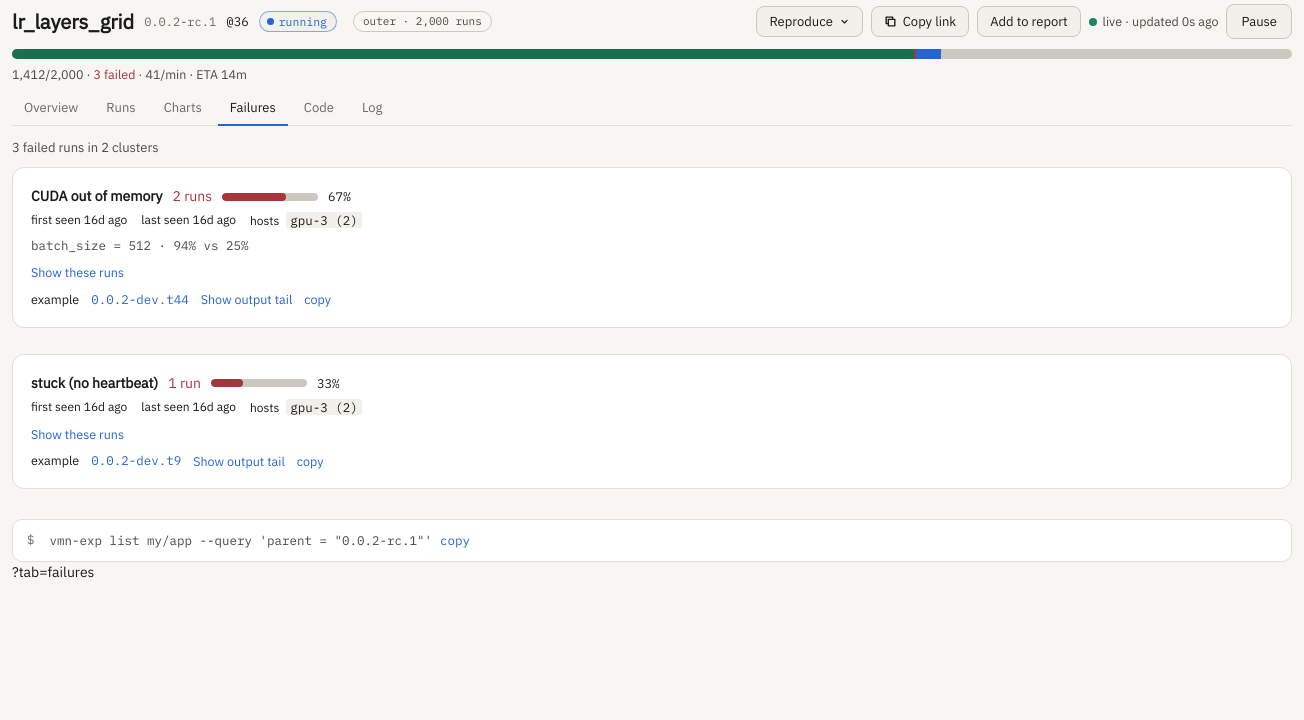
Test case: the job page › keeps the tab in the URL and moves with the arrow keys
Expected: the text "CUDA out of memory" is shown, [31,186,162,207]
Click the tab "Runs" at (121, 109), box [94,92,148,126]
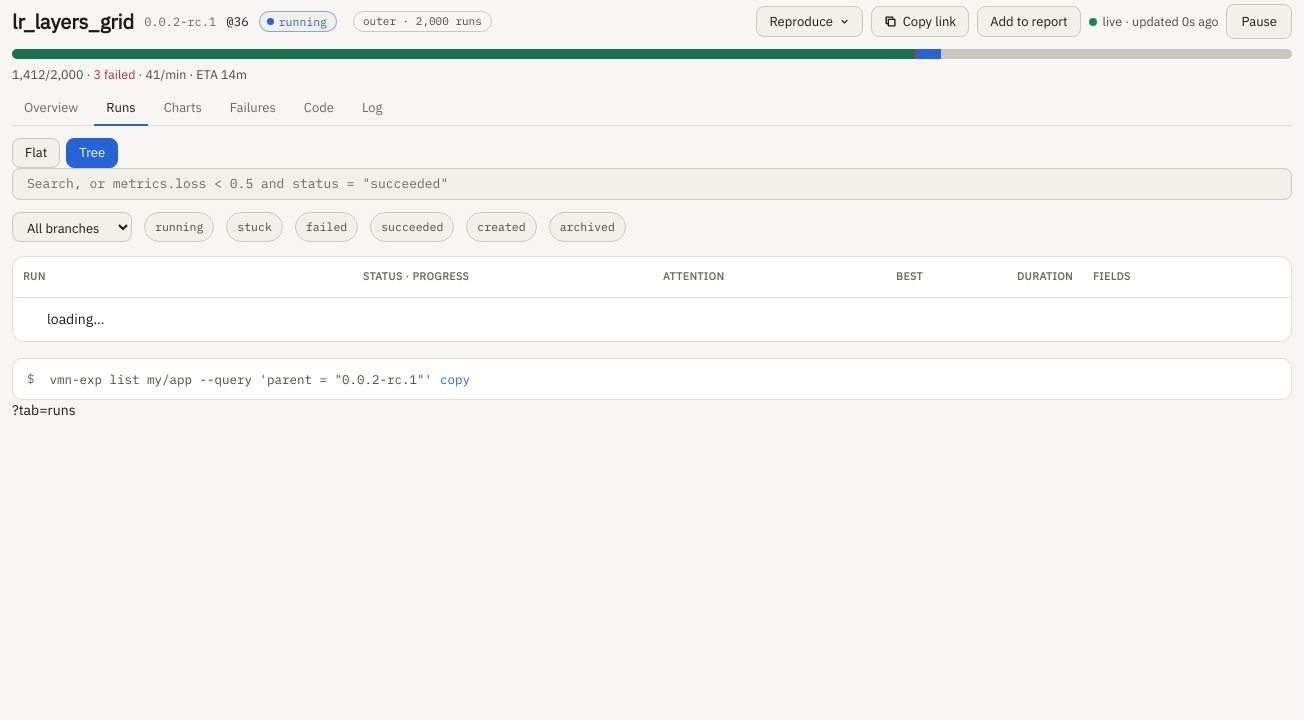
Now the text with test id "where" reads "?tab=runs", box [12,401,76,419]
Press ArrowRight in the tab "Runs", box [94,92,148,126]
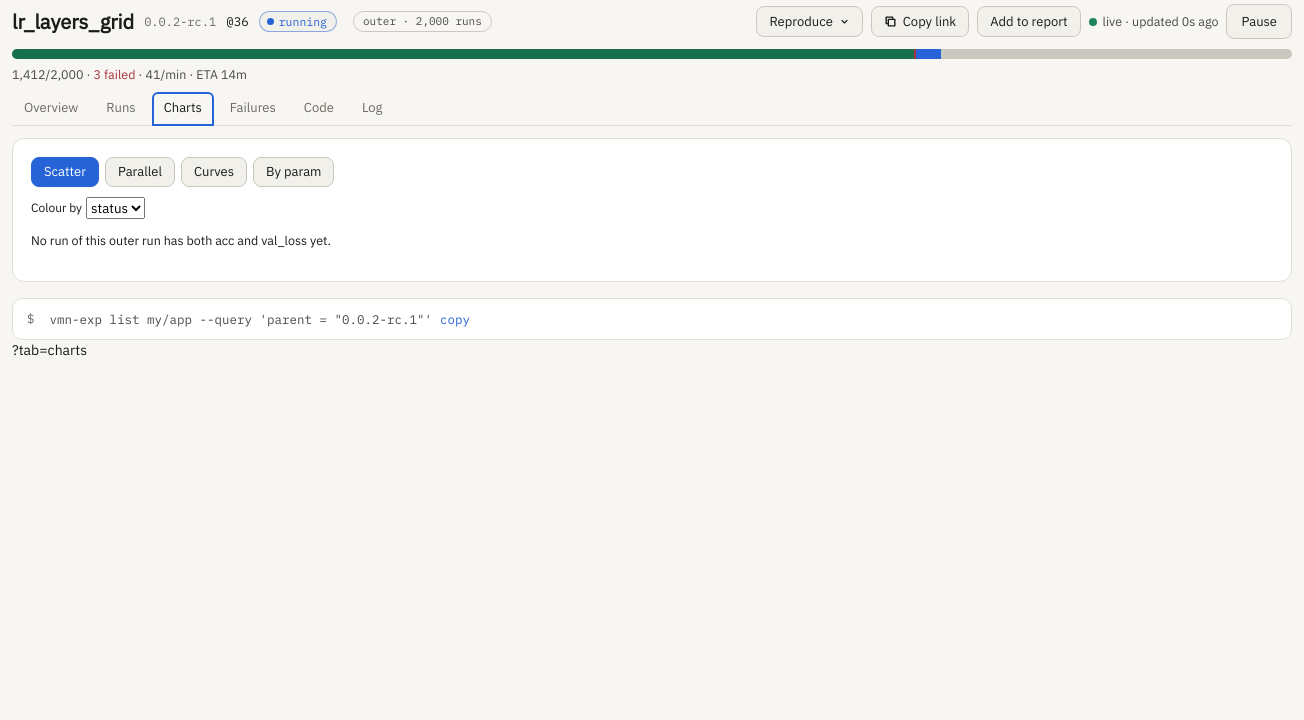
Now the text with test id "where" reads "?tab=charts", box [12,341,87,359]
Now the element named "Chart" is shown, box [31,157,334,187]
